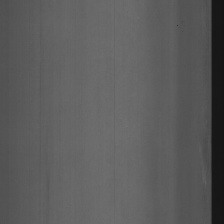inclusion: (195, 121, 210, 192), (175, 16, 184, 36)
